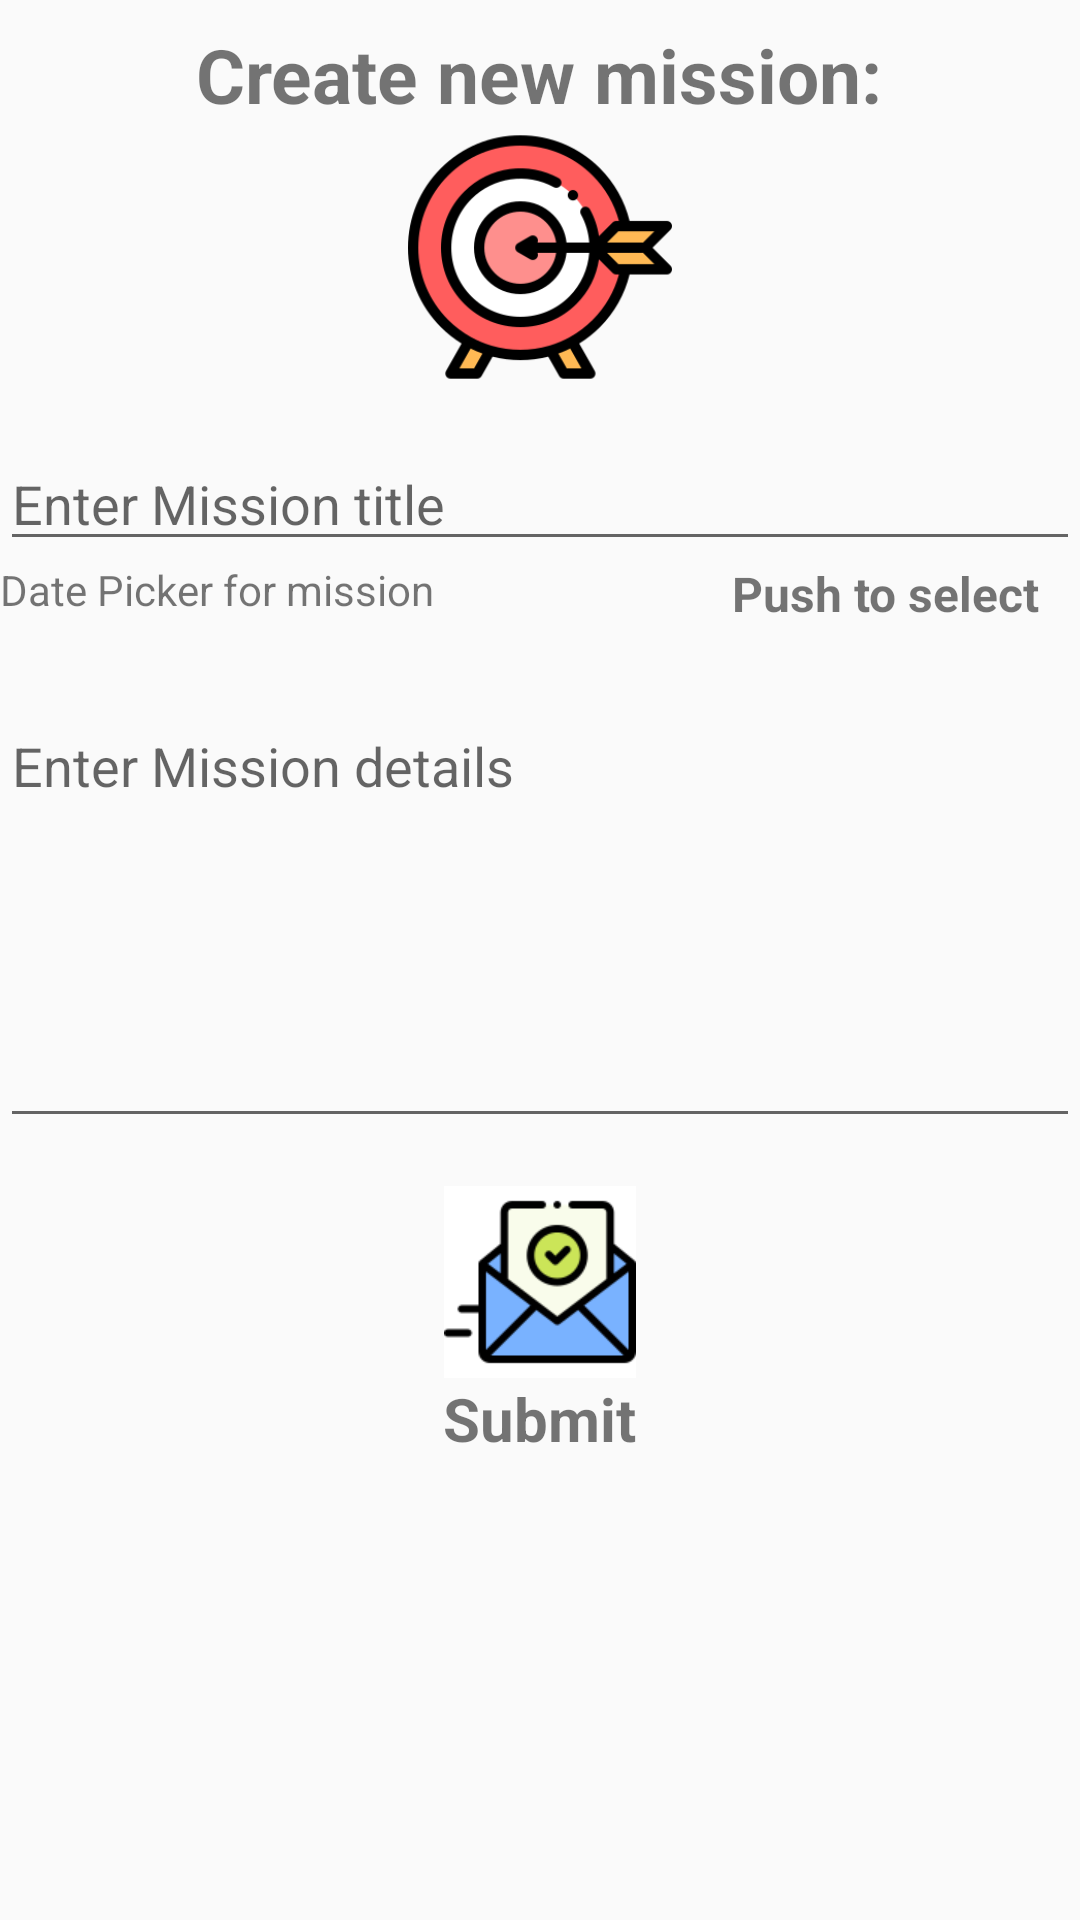

Named icons in this screenshot (1080x1920) and their bounding boxes, (x1, y1, x2, y2):
confirmation: (444, 1200, 636, 1364)
target: (408, 135, 672, 379)
